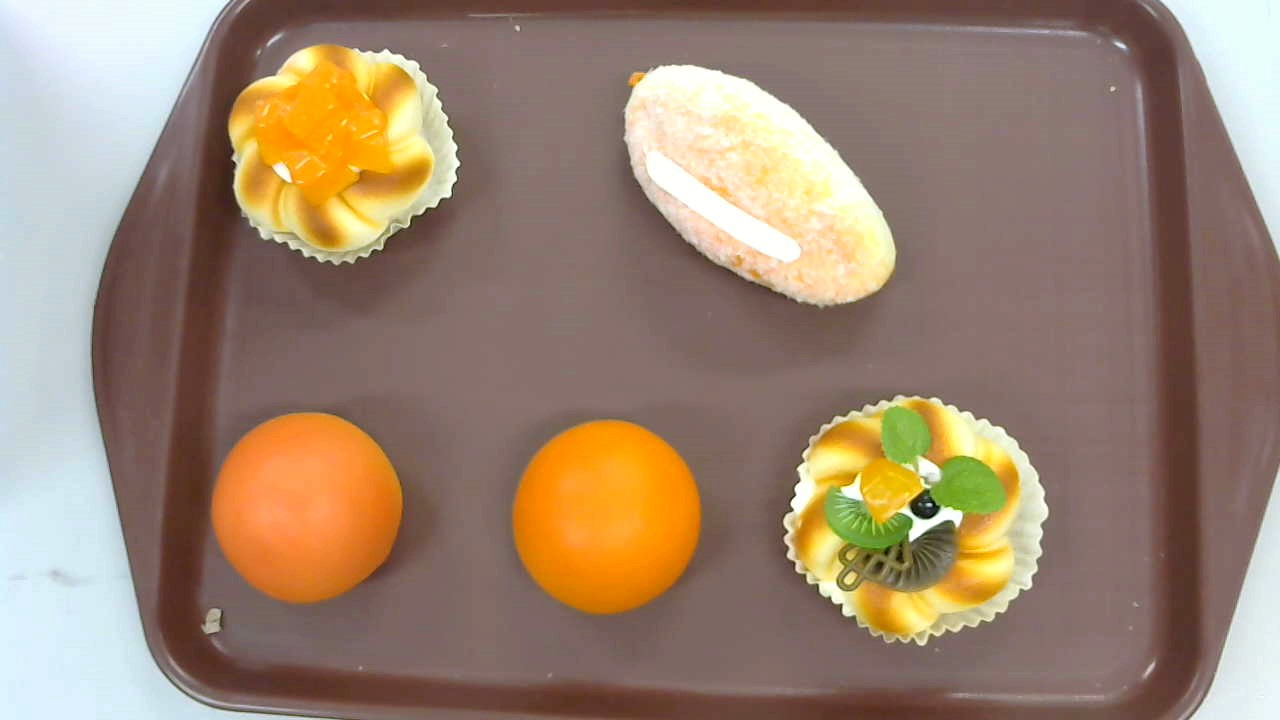bun: (211, 411, 403, 604), (513, 419, 701, 613)
coconut: (622, 62, 896, 309)
fruit tart: (782, 395, 1049, 642)
mango tart: (228, 42, 461, 267)
